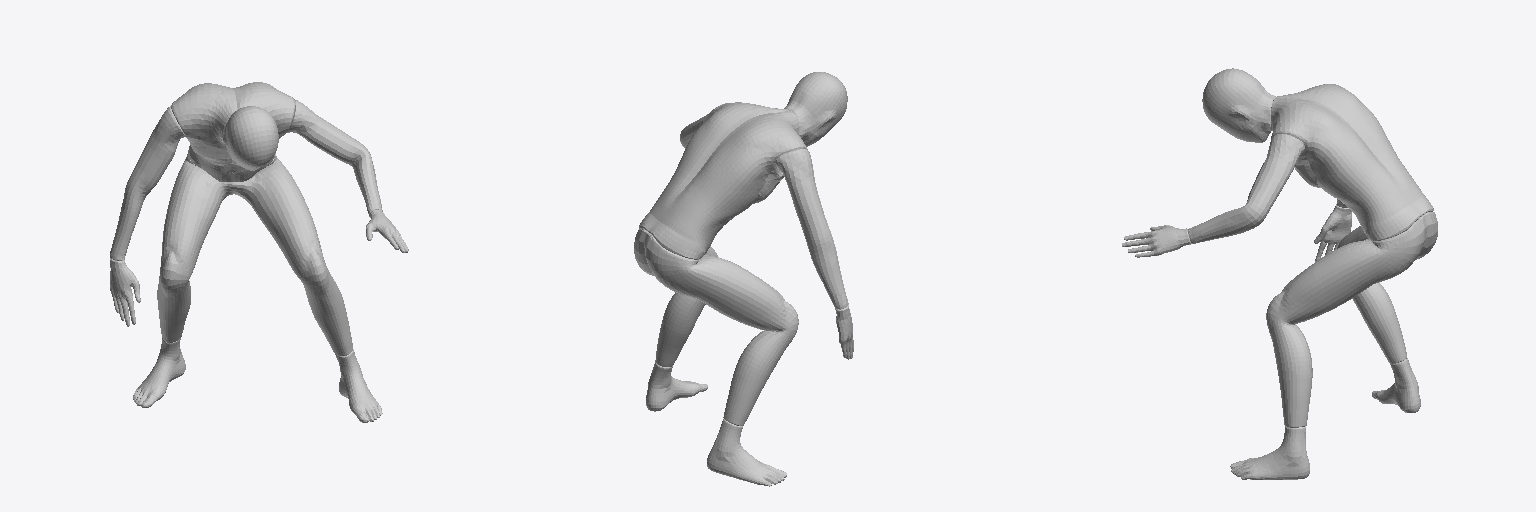
The model's file is standup71.obj.
3 renders of one model, left to right at view 1: azimuth 30°, elevation 25°; view 2: azimuth 150°, elevation 25°; view 3: azimuth 270°, elevation 25°, orthographic.
Visible parts, largest first — view 1: Ch36; view 2: Ch36; view 3: Ch36.
Part boxes in pixels (x1,y1,x2,y2): Ch36: (110, 82, 408, 422); Ch36: (634, 72, 853, 486); Ch36: (1122, 68, 1437, 479).
Bounding box in the file's own units: 0.8154 × 1.19 × 0.9926.